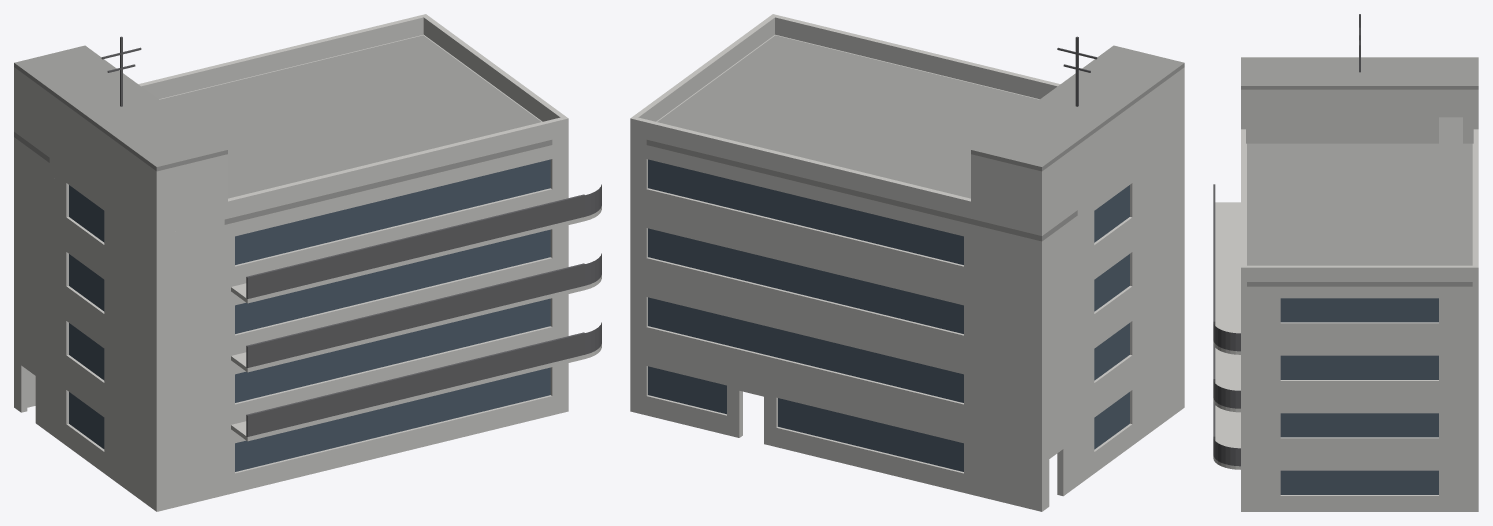
The model's file is apartment.walls-v1.lod1.glb.
3 views of the same model, side by side, from view 1: azimuth 30°, elevation 25°; view 2: azimuth 150°, elevation 25°; view 3: azimuth 270°, elevation 25° (orthographic). The views are drawn at different scales.
Visible parts, largest first — view 1: apartment; view 2: apartment; view 3: apartment.
Boxes of the visible parts, x1,y1,x2,y2 form: apartment: (14,14,601,511); apartment: (630,14,1184,511); apartment: (1213,14,1478,511).
Size of the model in its own units: 21.4 by 19.2 by 13.4.
